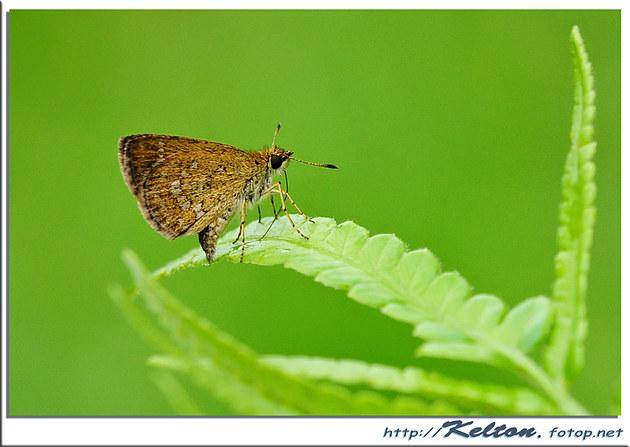Hesperiidae: (116, 114, 336, 275)
